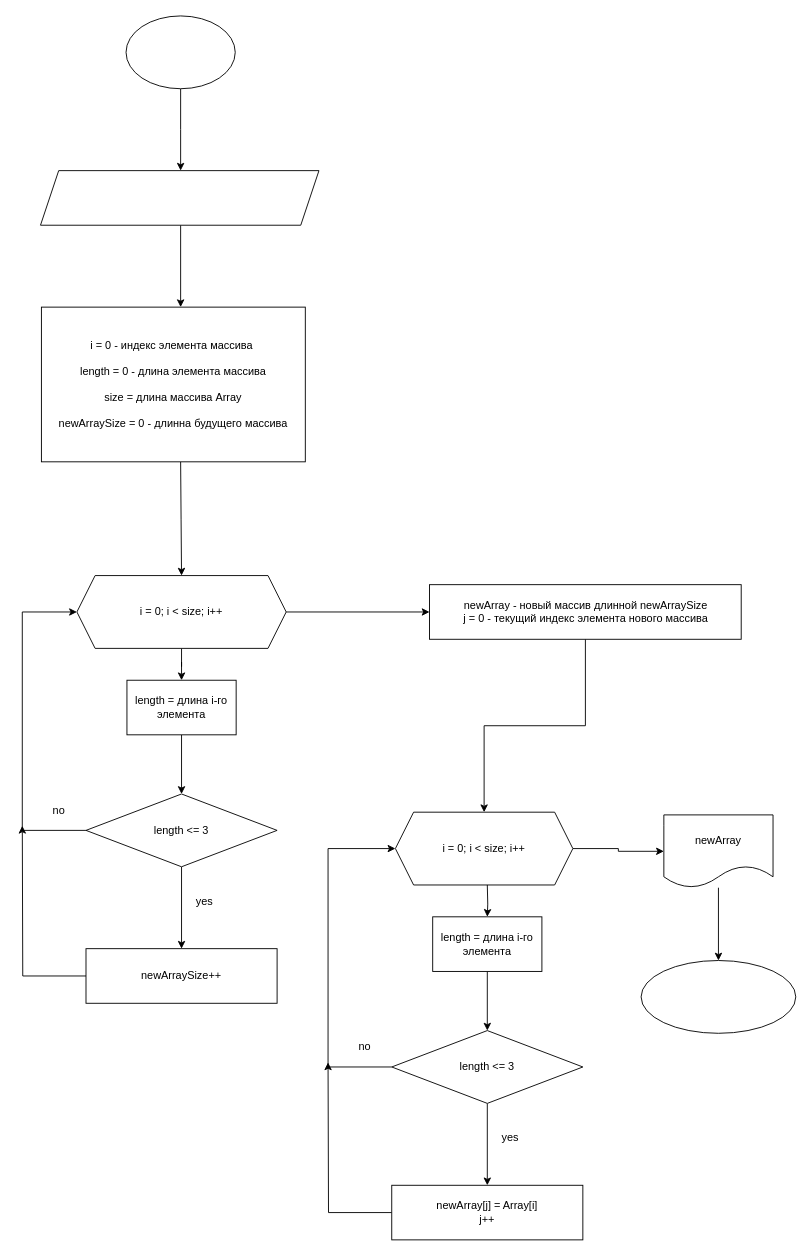
This 812x1256 diagram has some shape labels left out. Each missing label, with the centre of its shape:
"end" goes at (718,996).
"массив элементов через пробел Array" goes at (179,197).
